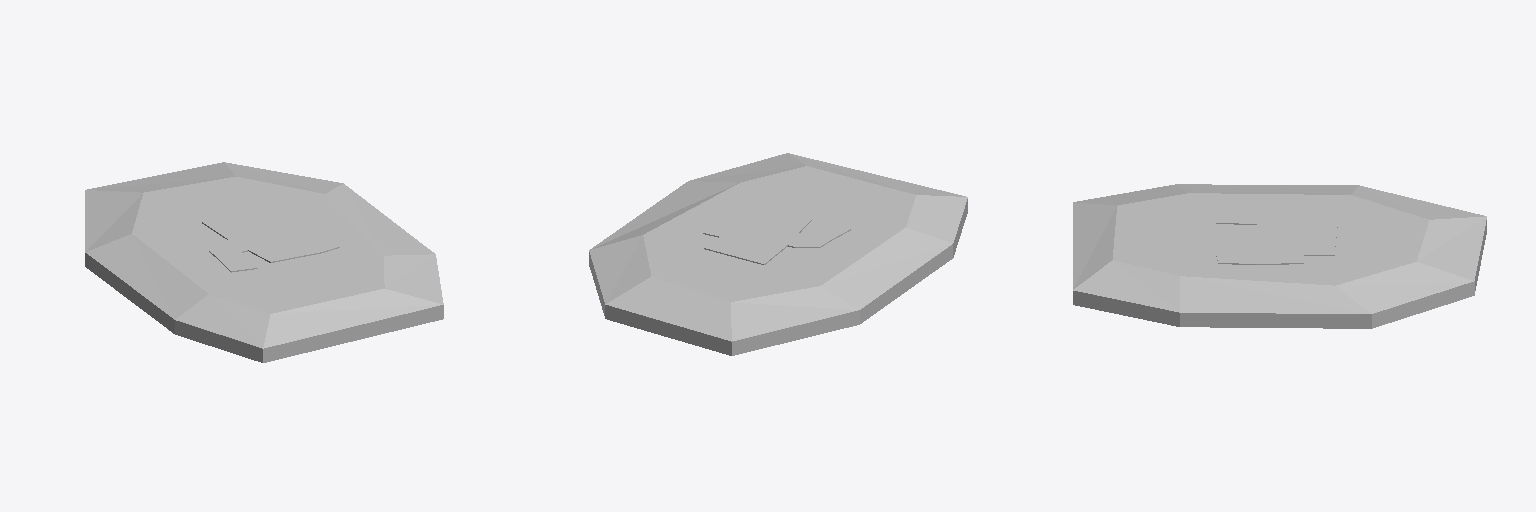
File: ruin-earth.obj
3 views of the same model, side by side, from view 1: azimuth 30°, elevation 25°; view 2: azimuth 150°, elevation 25°; view 3: azimuth 270°, elevation 25° (orthographic).
Visible parts, largest first — view 1: ruin_Cylinder; view 2: ruin_Cylinder; view 3: ruin_Cylinder.
Part boxes in pixels (x1,y1,x2,y2): ruin_Cylinder: (85, 162, 443, 362); ruin_Cylinder: (589, 153, 967, 355); ruin_Cylinder: (1073, 184, 1486, 328).
Size of the model in its own units: 19.12 by 2.61 by 25.77.